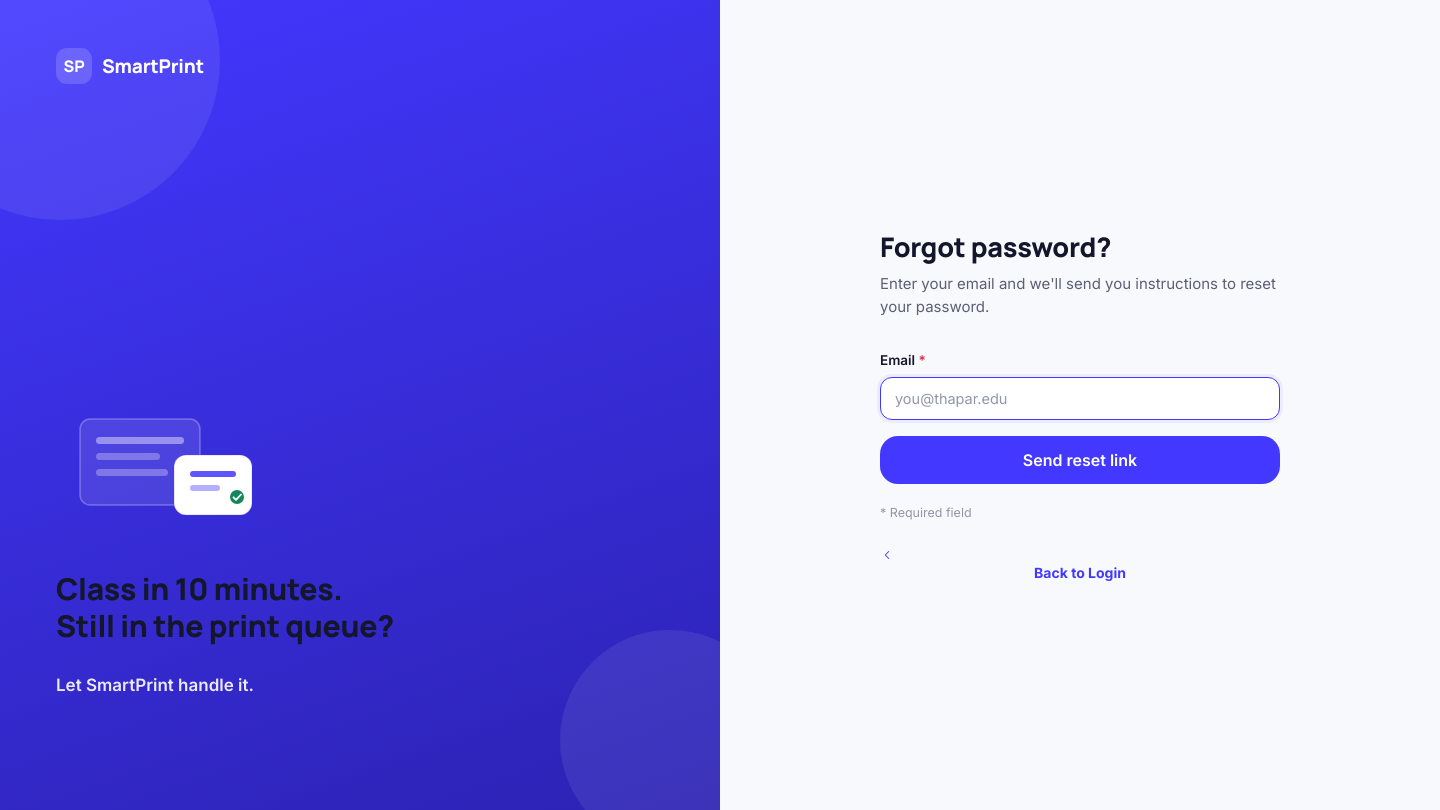
ForgotPasswordPage › shows a validation error message returned by the backend
Type "not-an-email" into the field labelled "Email *" at (1080, 398), box x1=880 y1=376 x2=1280 y2=420
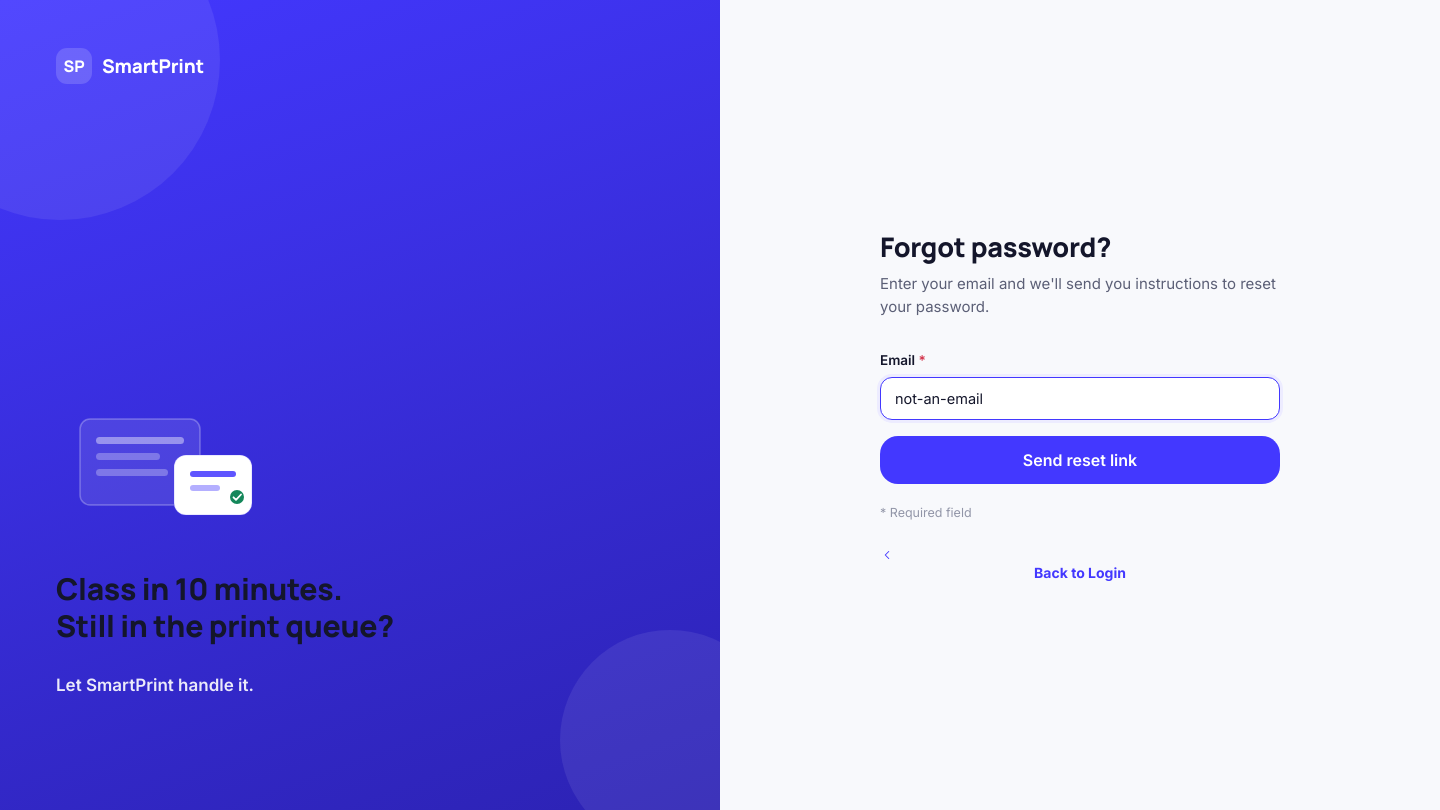
Click the button "Send reset link" at (1080, 460), box x1=880 y1=436 x2=1280 y2=484
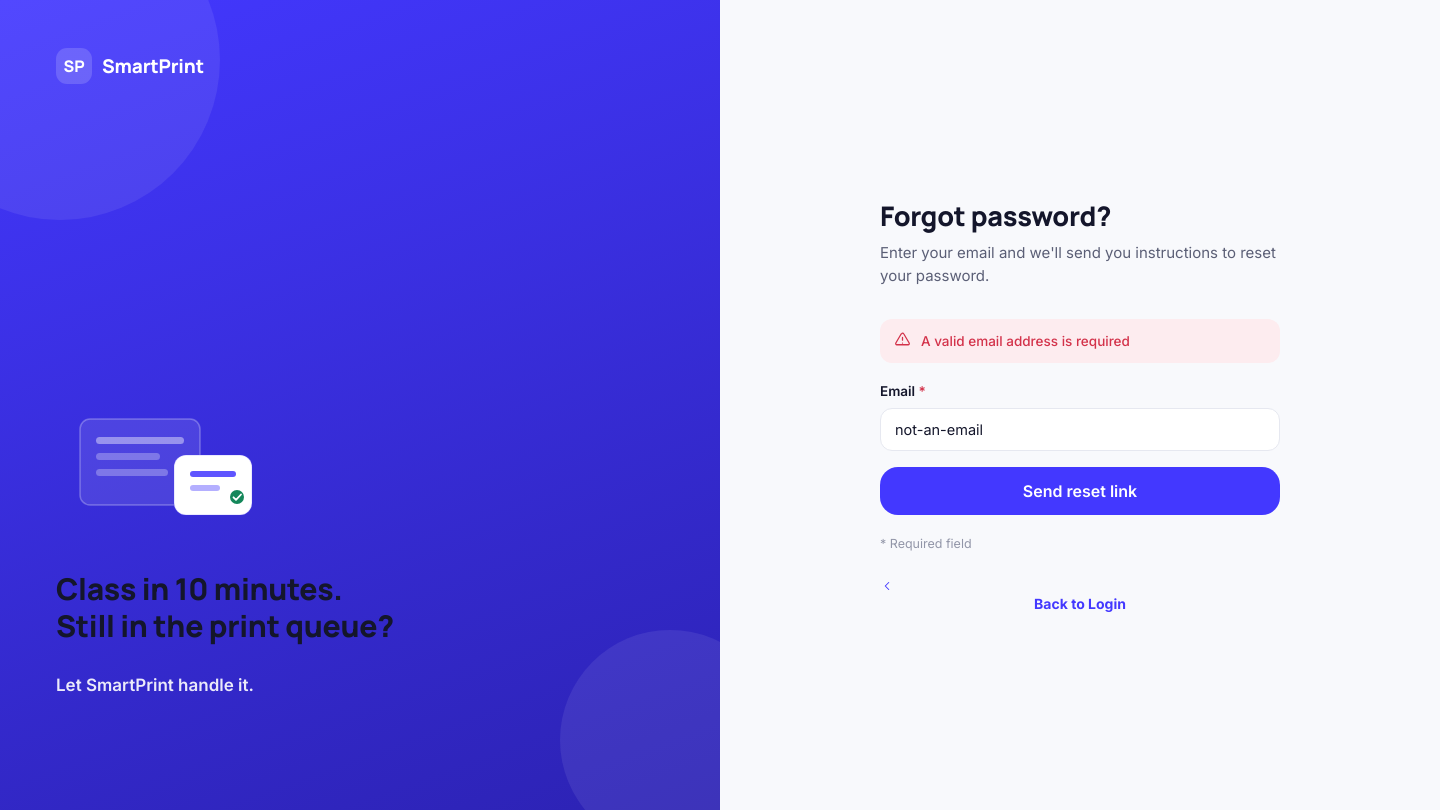
Now the message reads "A valid email address is required", box x1=921 y1=333 x2=1130 y2=349
